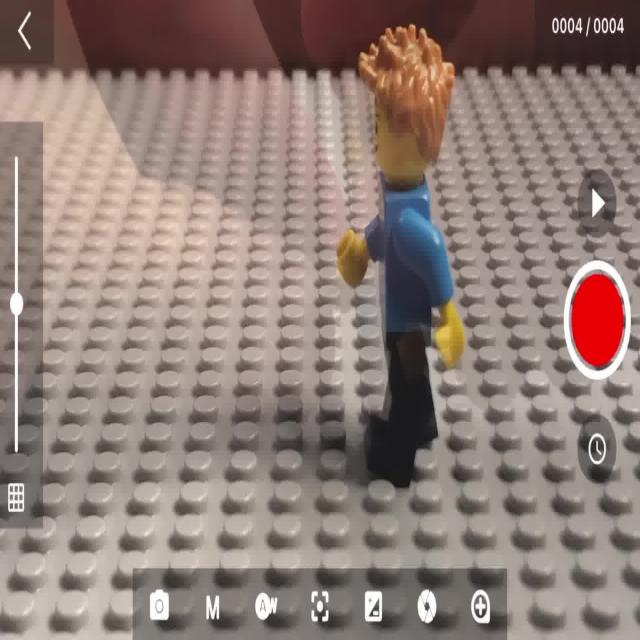4: (394, 204, 463, 373), (339, 215, 383, 286)
hand: (355, 27, 459, 472)
